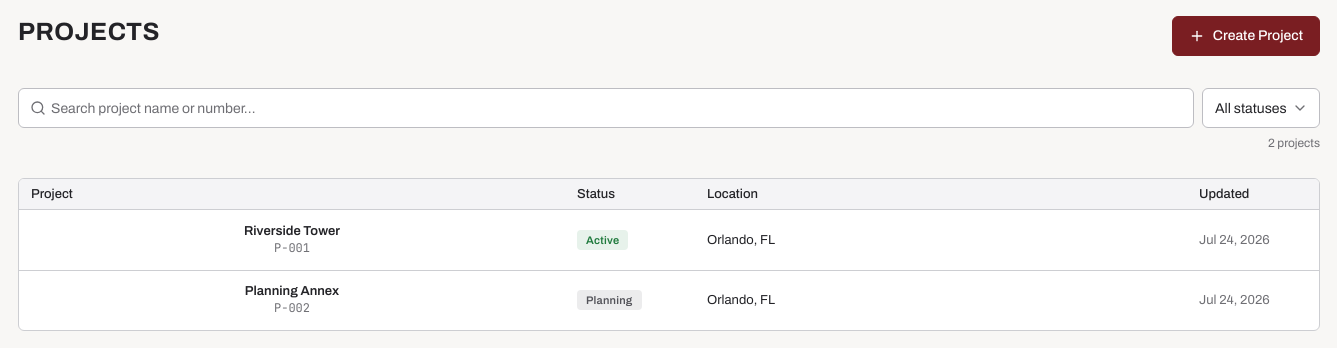
Scenario: native Projects register — search, status, URL, and mobile disclosure › searches by project name or number and replaces the current history entry
Type "P-002" into the search field named "Search projects" at (606, 108), box x1=18 y1=88 x2=1194 y2=128
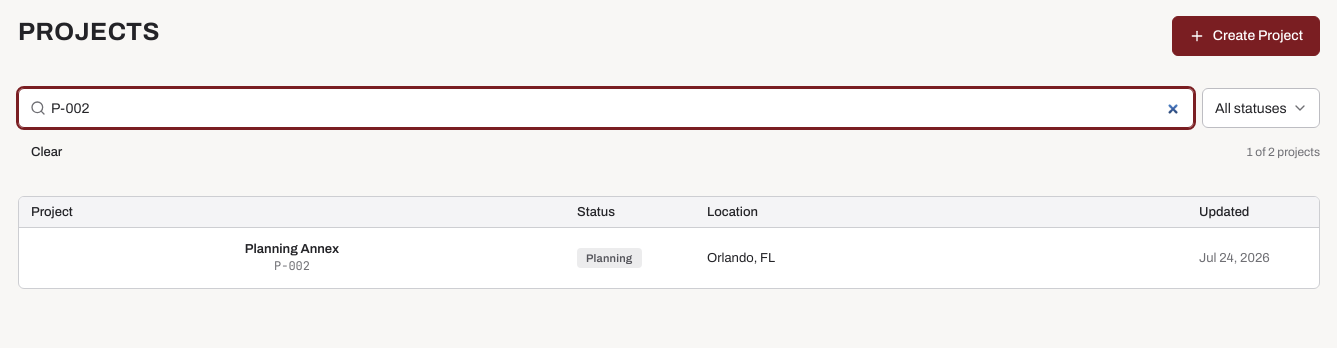
Expected: the link "Planning Annex" is shown, x1=245 y1=242 x2=339 y2=256
Result: the text "1 of 2 projects" is shown at x1=1246 y1=145 x2=1320 y2=159
Result: the link "Riverside Tower" is gone
